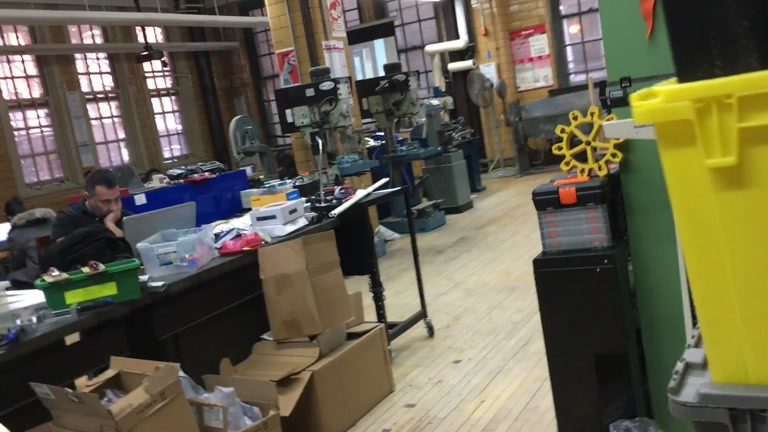gear: (551, 106, 626, 180)
